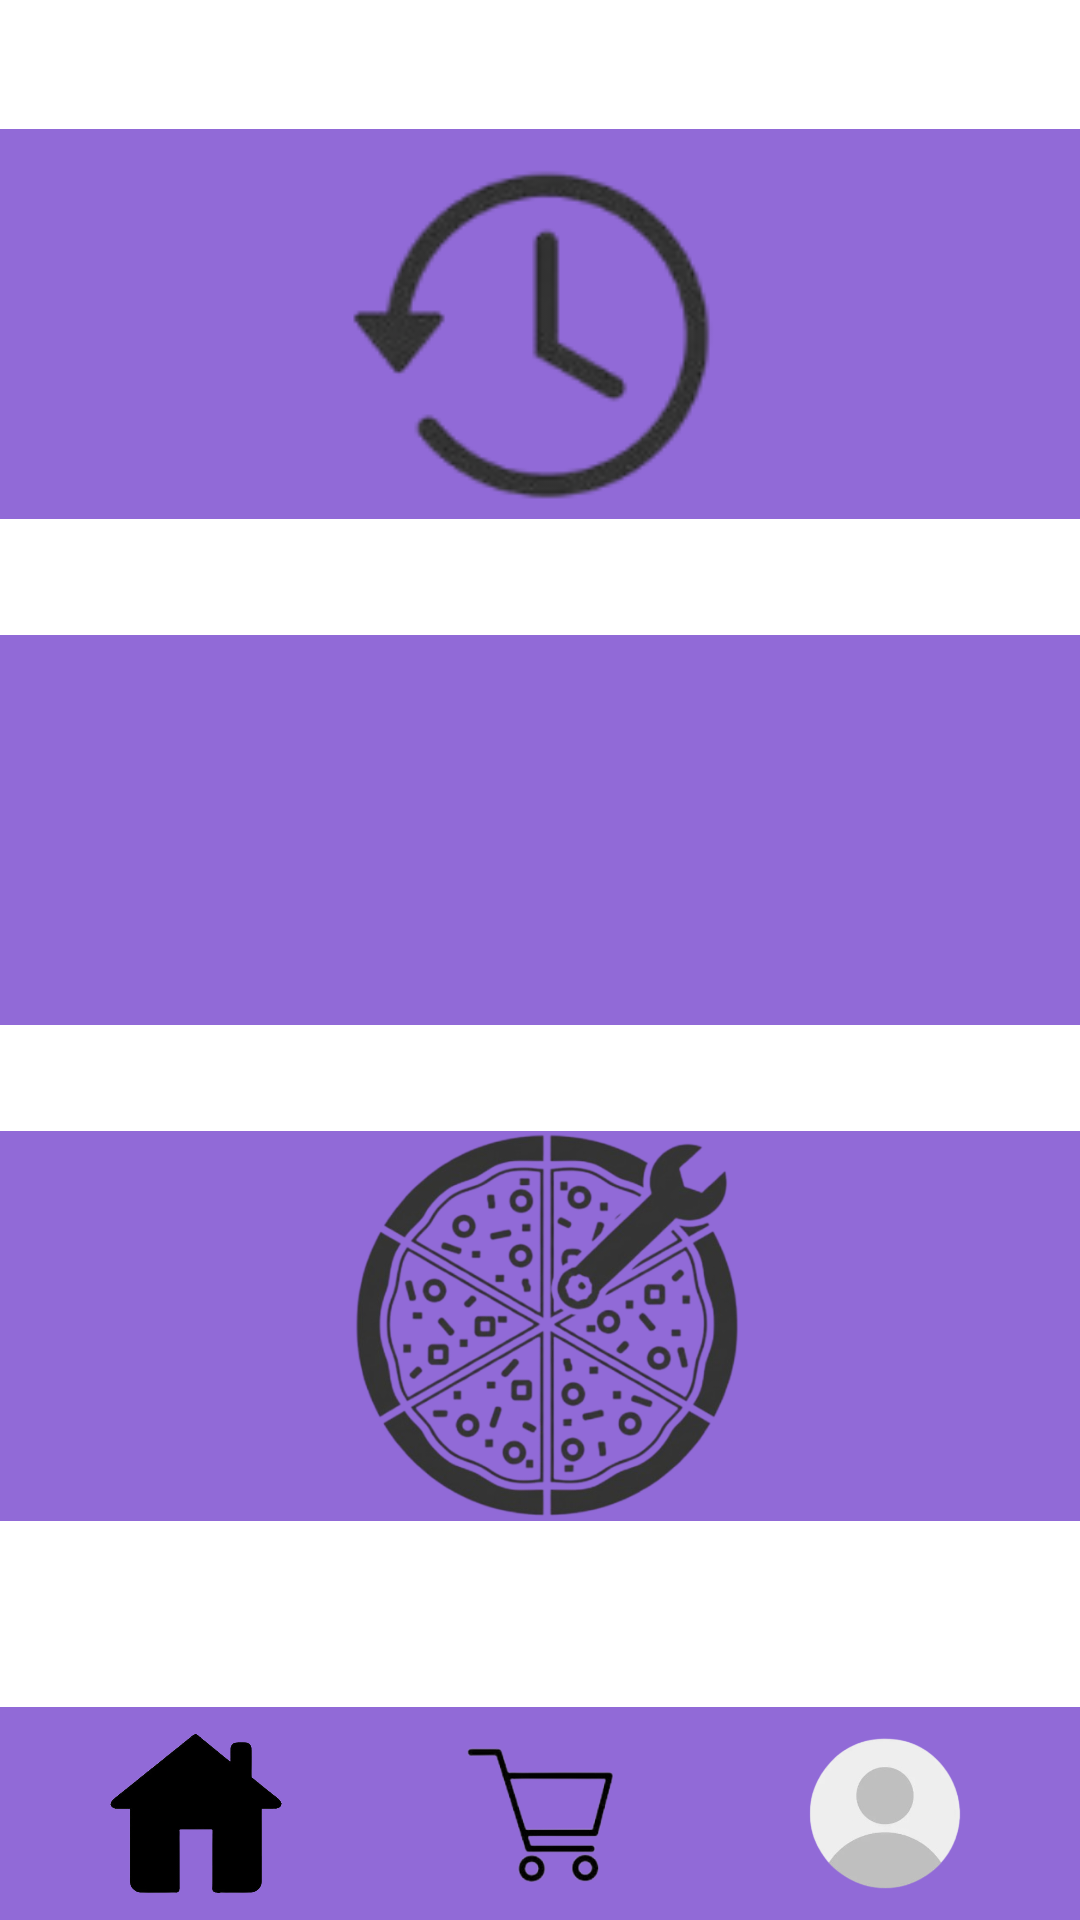

Locate icon controls on the screen. Image size 1080 × 1920, boxes as (x1, y1, x2, y2).
carrito: (467, 1748, 613, 1882)
casa: (110, 1734, 282, 1893)
perfil: (810, 1738, 960, 1888)
